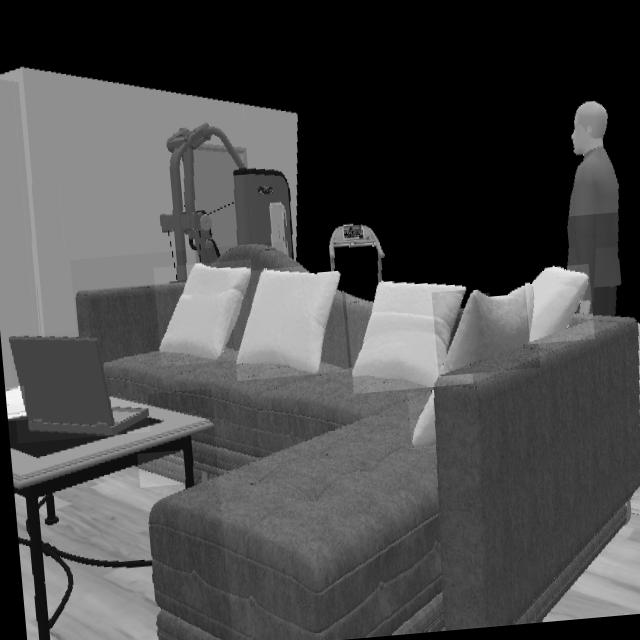book: (5, 387, 26, 421)
laptop: (9, 336, 148, 434)
person: (566, 101, 624, 317)
pillow: (352, 283, 465, 387), (235, 269, 340, 374), (439, 284, 534, 376), (160, 264, 251, 360), (529, 268, 589, 343), (411, 391, 435, 448)
sofa: (74, 245, 640, 640), (138, 450, 186, 483)
table: (7, 397, 214, 640)
